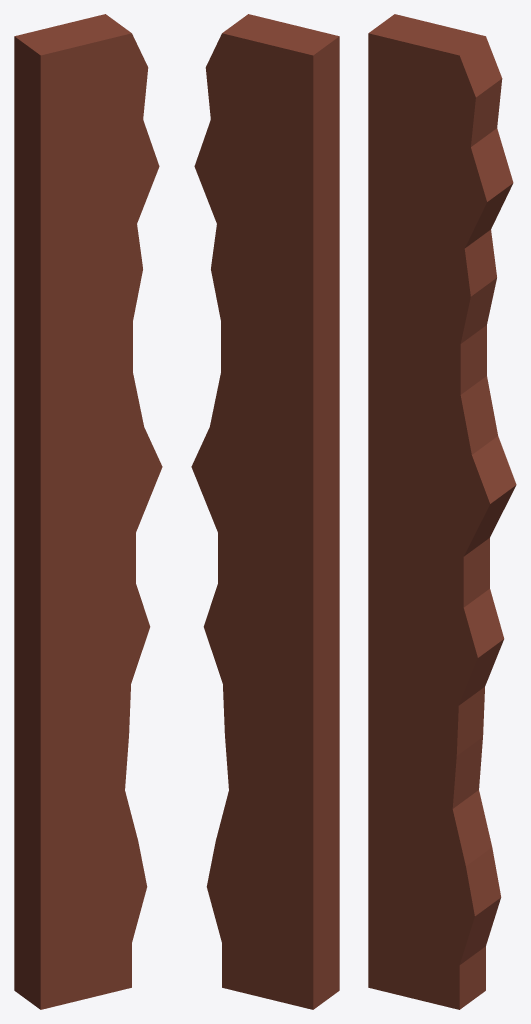
The model's file is Tile07.glb.
The picture shows the model from 3 angles, left to right: view 1: azimuth 30°, elevation 25°; view 2: azimuth 150°, elevation 25°; view 3: azimuth 330°, elevation 25°; orthographic projection.
Parts seen in each view (by area): view 1: 07; view 2: 07; view 3: 07.
Part boxes in pixels (bbox=[...]): 07: bbox=[14, 14, 162, 1009]; 07: bbox=[191, 14, 339, 1009]; 07: bbox=[368, 14, 516, 1009].
Size of the model in its own units: 0.2672 by 2 by 0.1.
1 material, 1 textured.
